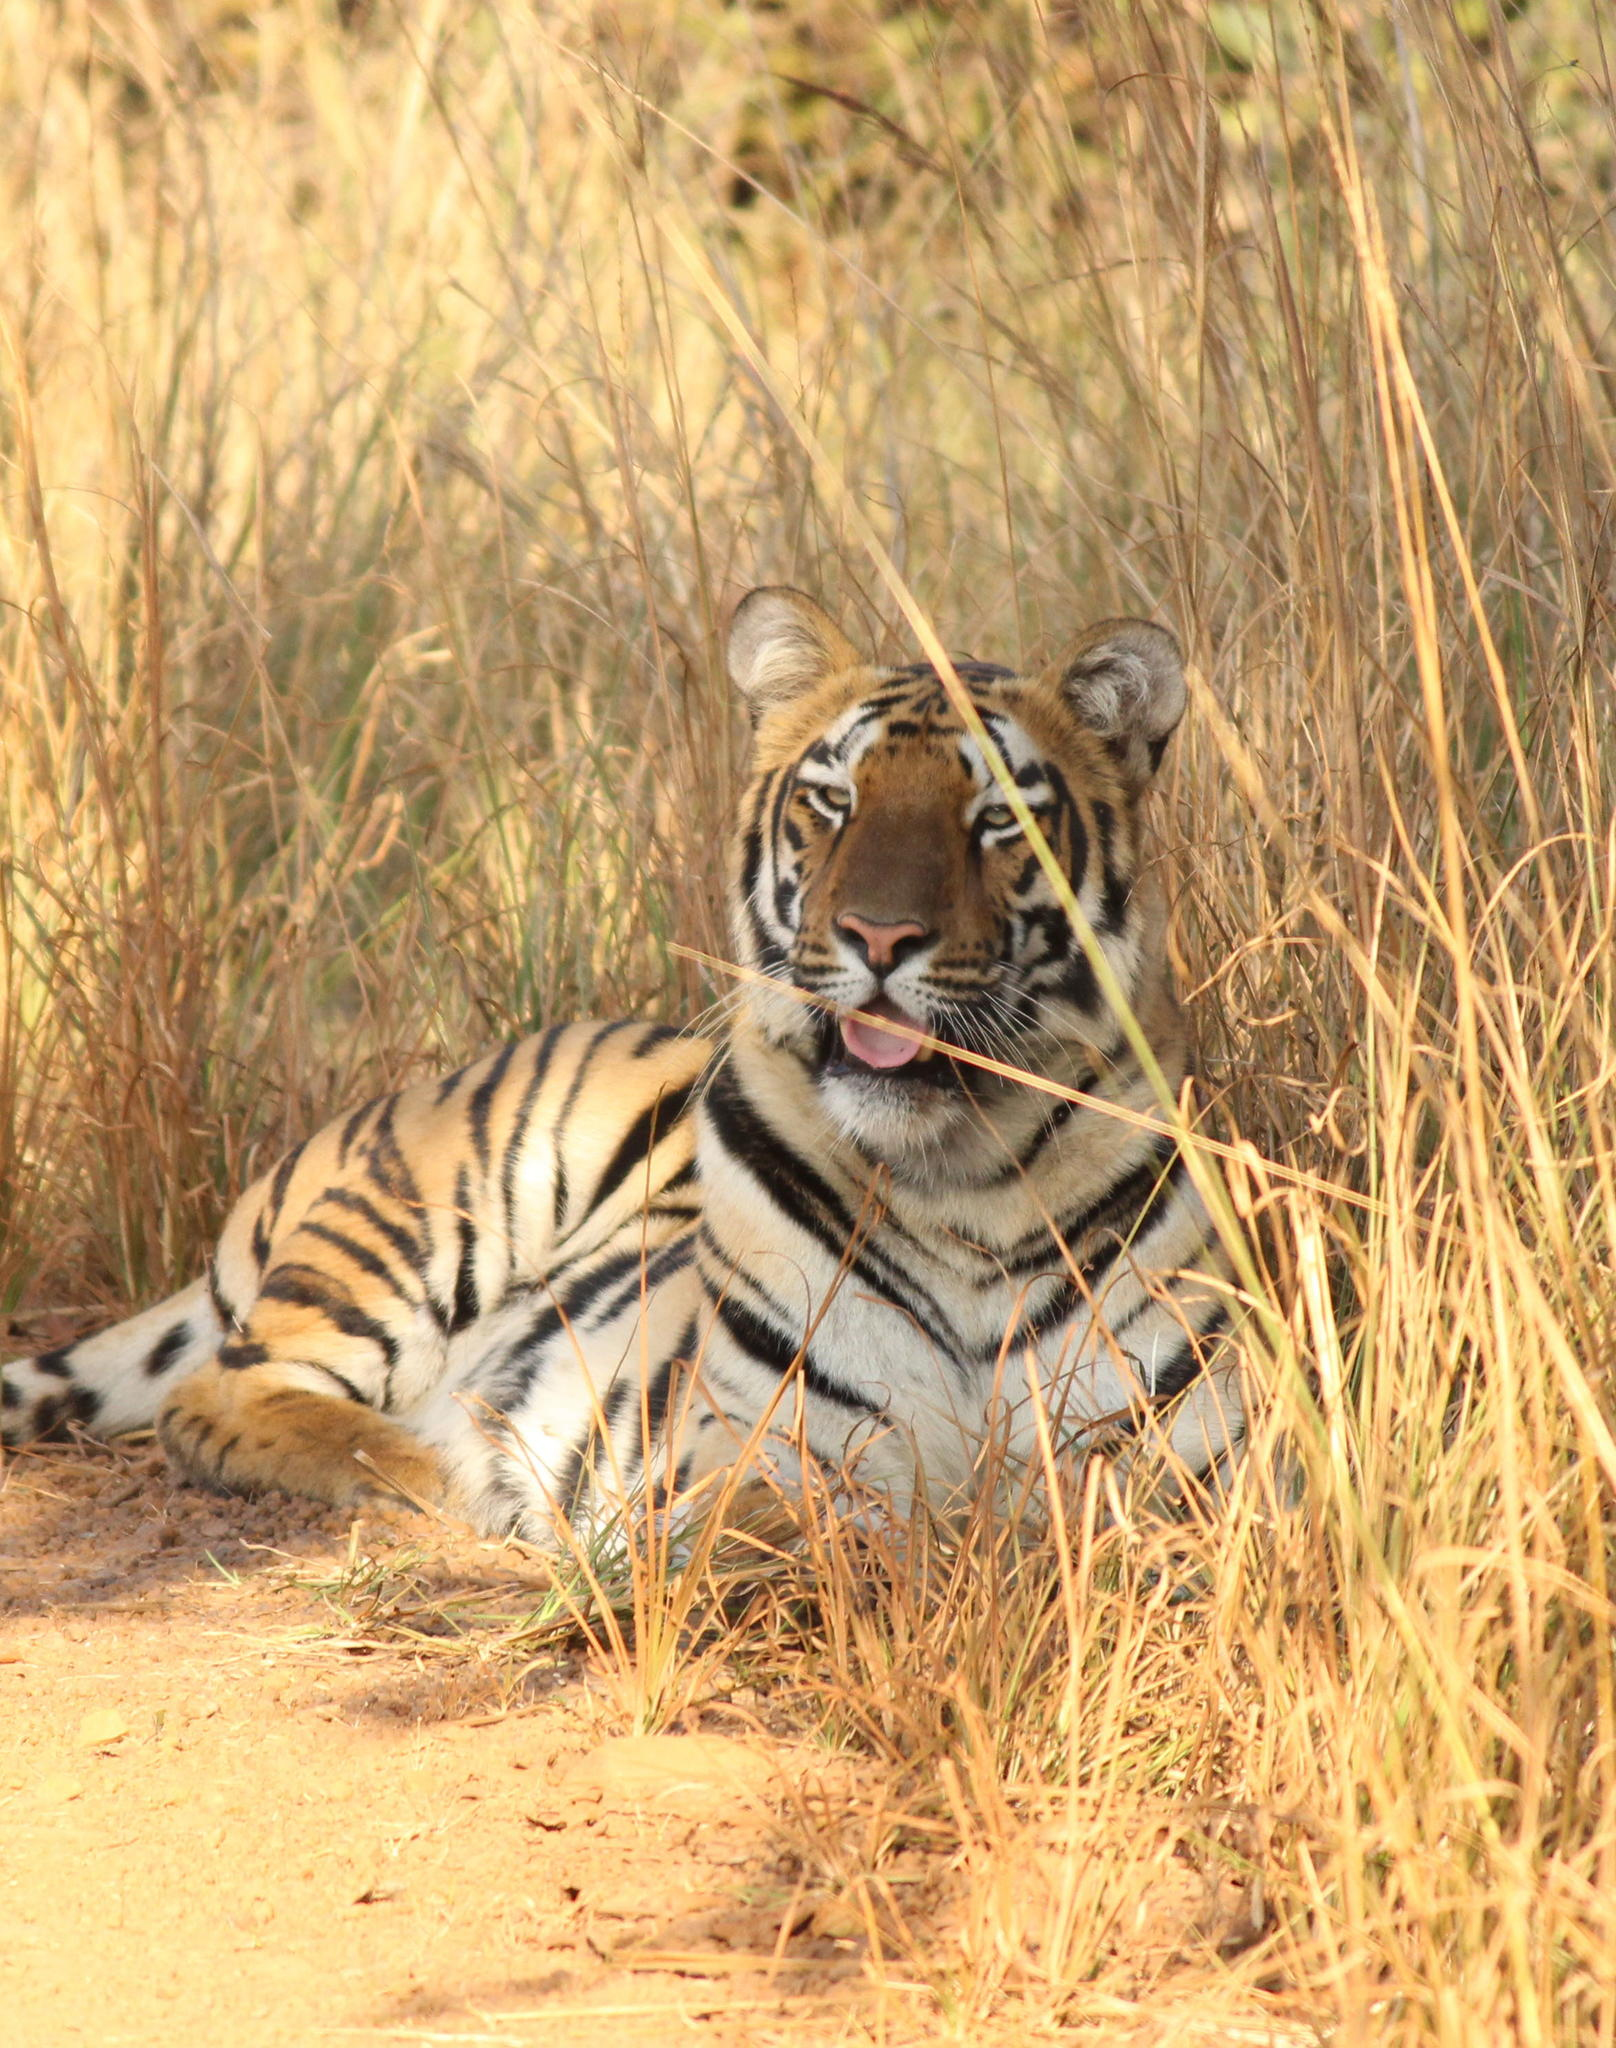tiger: (150, 603, 1360, 1607)
